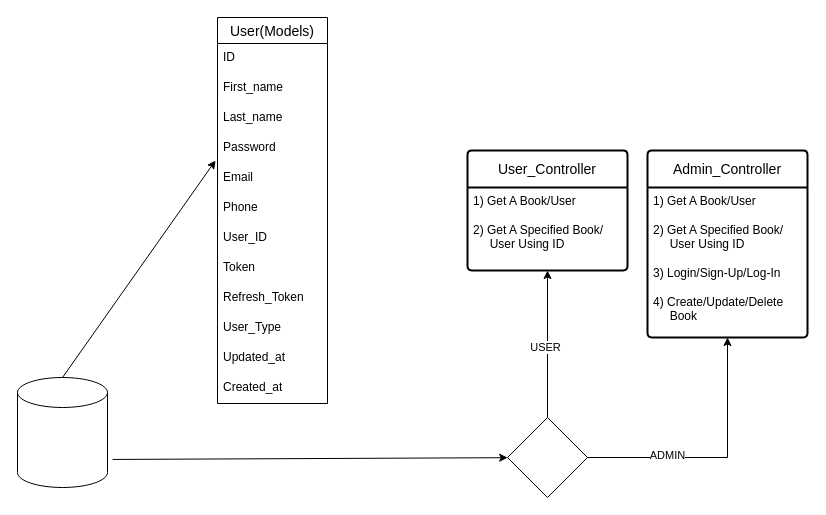
The diagram is 826 pixels wide and 515 high, and some of its shapes have lost their labels. Here are the shapes that lost their labels. From the top down, the centre of each, then its label:
the point at 62,432: MongpDB
the point at 547,457: Auth?
